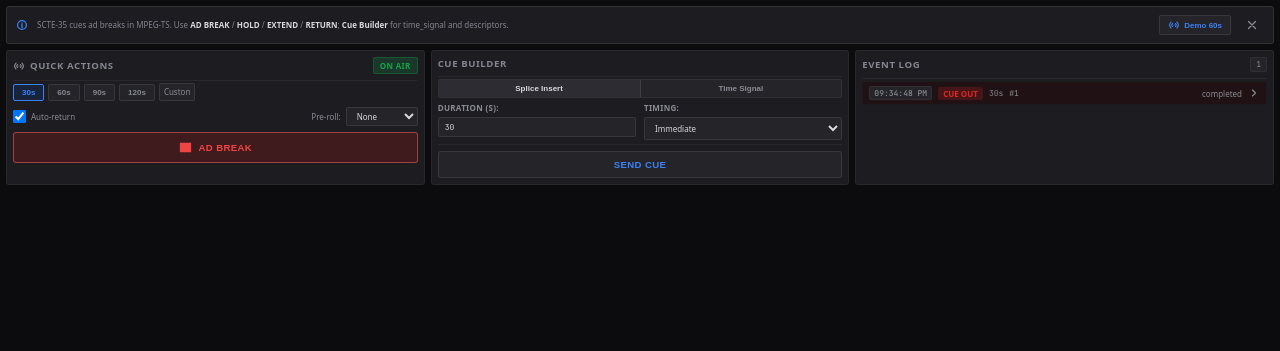
SCTE35Panel › shows routing section when event has source/destination
Click the button with class "log-row": {"x": 901, "y": 93} [863, 82, 1266, 104]
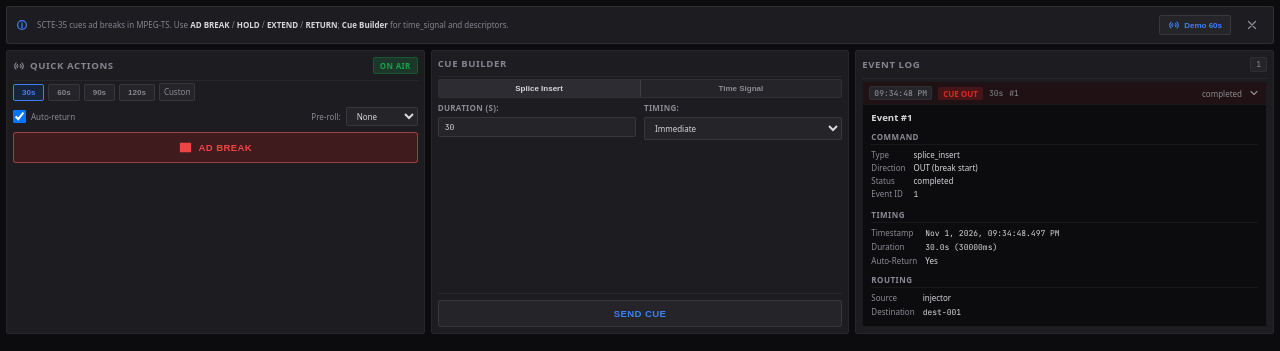
Result: the element with class "log-detail" shows "Routing" at [871, 274, 912, 285]
Result: the element with class "log-detail" shows "injector" at [923, 292, 951, 304]
Result: the element with class "log-detail" shows "dest-001" at [923, 307, 961, 317]
